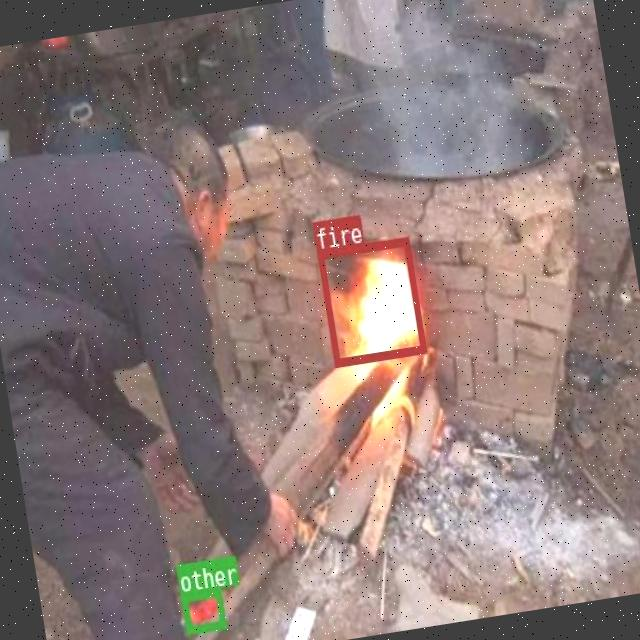fire: (316, 236, 426, 366)
